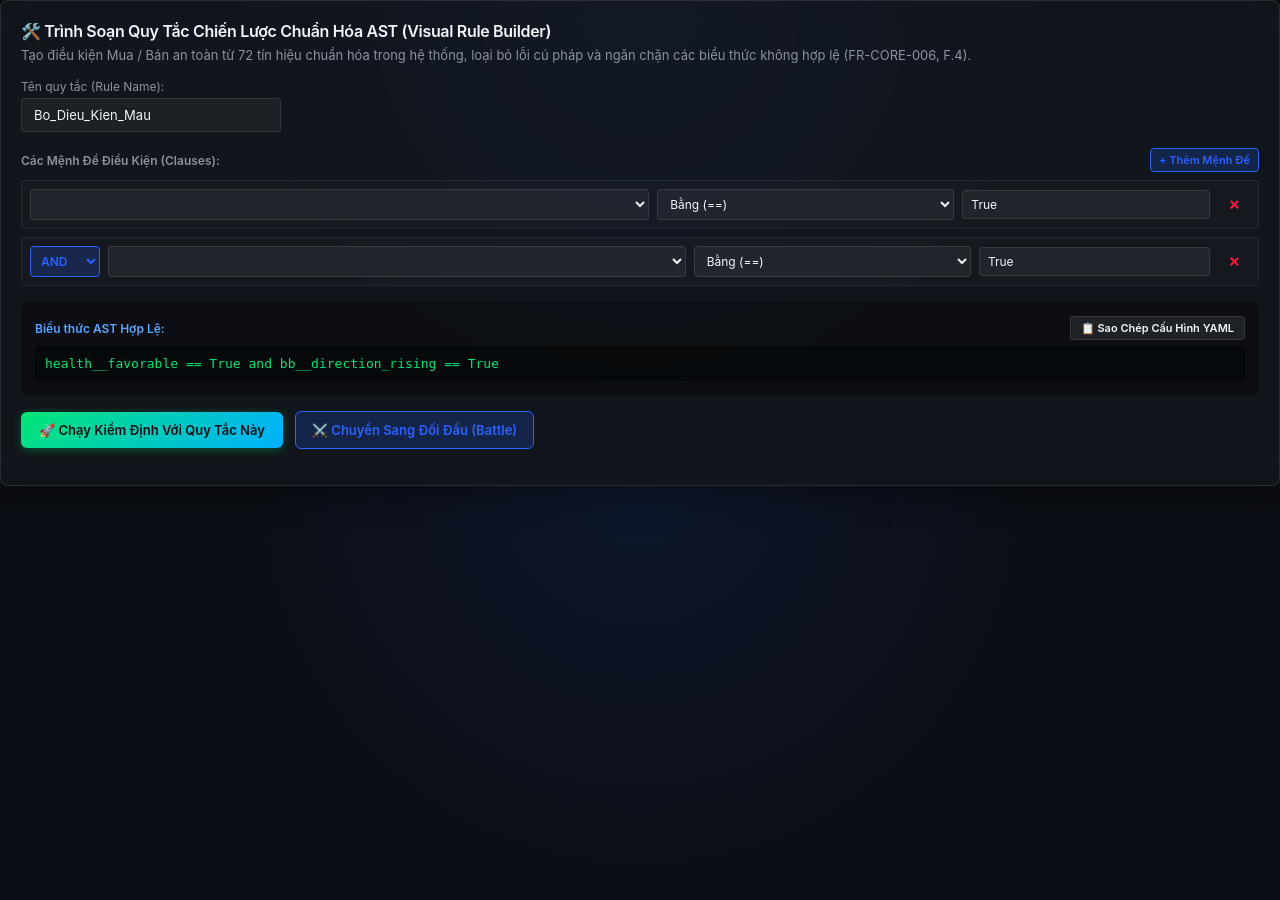
Test case: StrategyRuleBuilder Component (FR-CORE-006, F.4) › allows adding and removing clauses and updates expression
# Click Add Clause
Step 1. Click the button with test id "add-clause-btn" → {"x": 1204, "y": 160}, box x1=1150 y1=148 x2=1259 y2=172
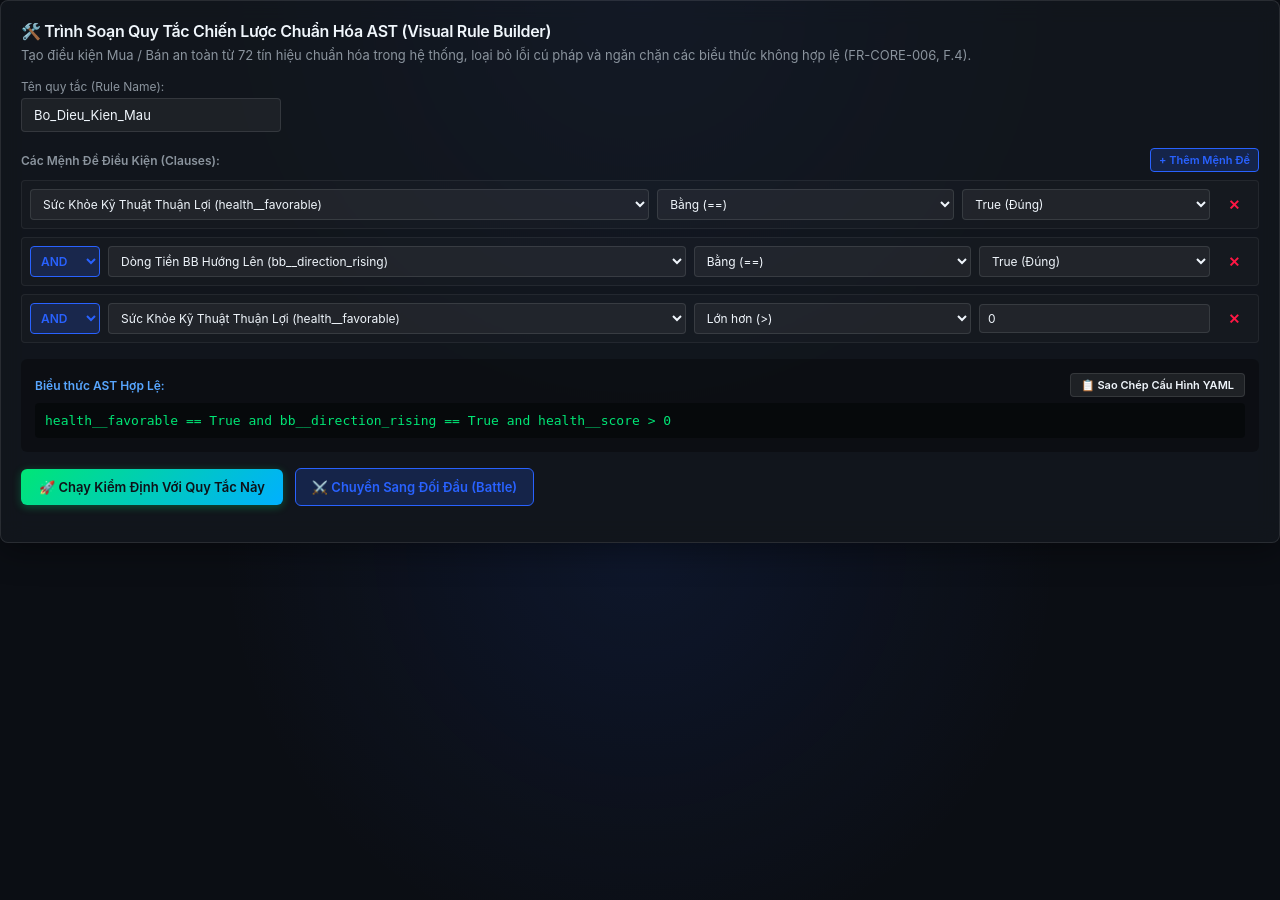
Expected: the element with test id "clause-row-2" is shown, x1=21 y1=294 x2=1259 y2=343
# Change signal in clause 2 to divergence__rsi_regular_bullish
Step 2. Select "Phân Kỳ Thường Tăng RSI (divergence__rsi_regular_bullish)" in the dropdown with test id "clause-signal-select-2" → {"x": 397, "y": 318}, box x1=108 y1=303 x2=686 y2=334
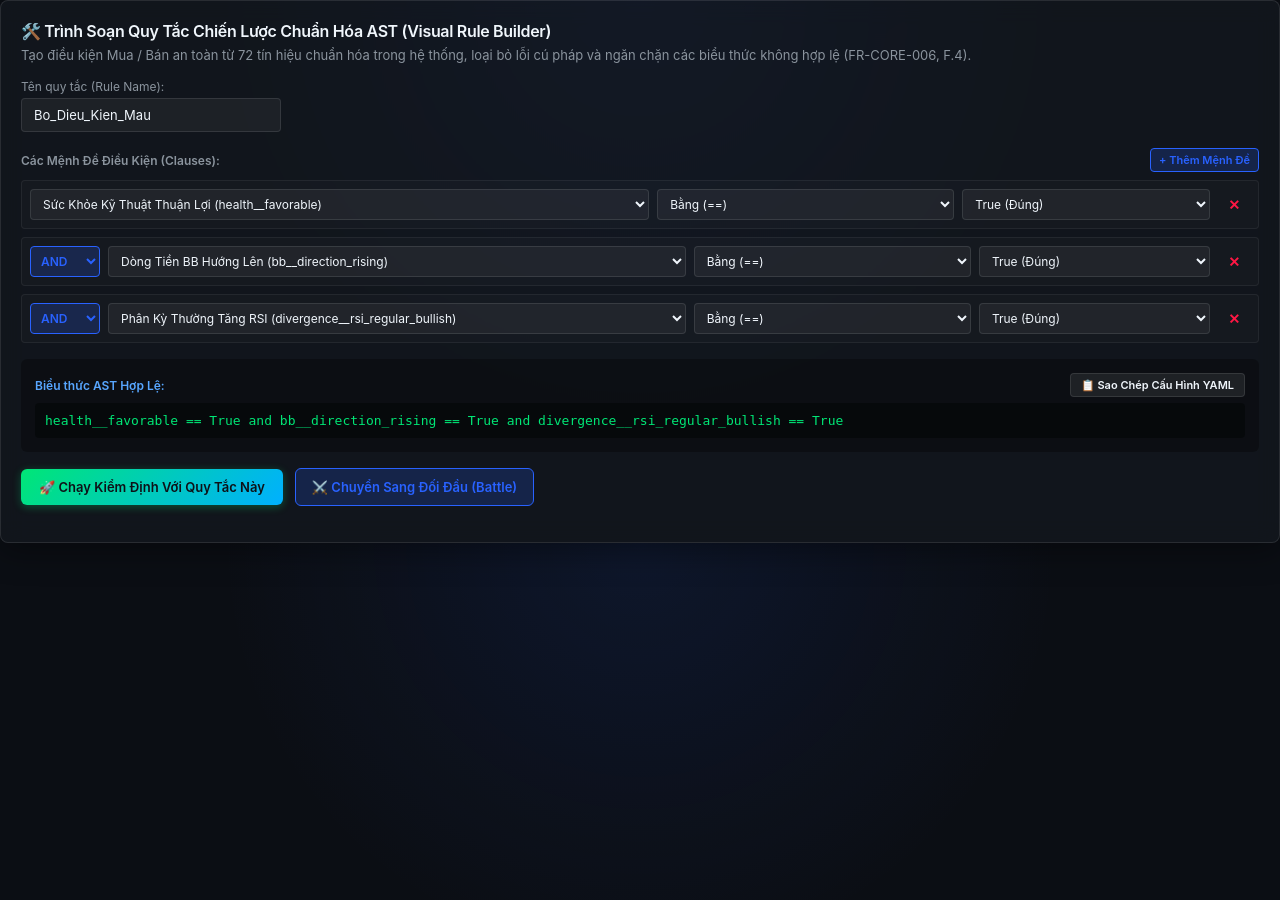
Expected: the text with test id "generated-ast-expression" shows "divergence__rsi_regular_bullish == True", x1=45 y1=413 x2=843 y2=428
